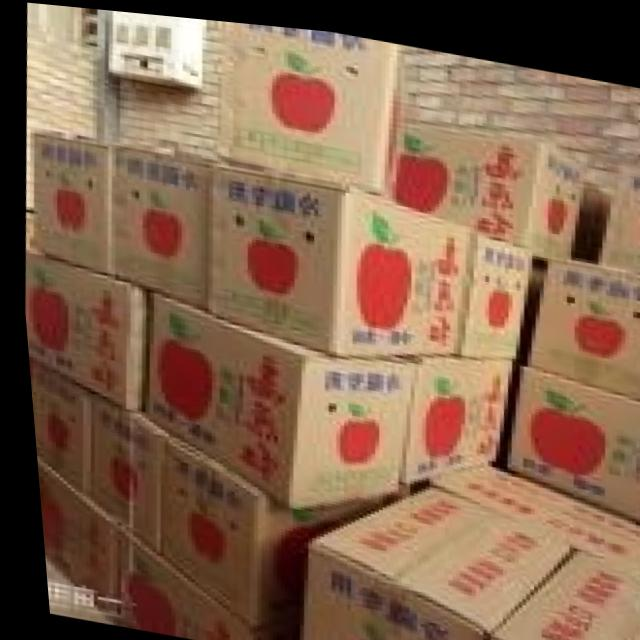box: (138, 290, 409, 501), (199, 158, 466, 351), (146, 437, 390, 621), (290, 479, 564, 640), (215, 17, 400, 190), (393, 115, 589, 251), (417, 454, 640, 563), (500, 352, 640, 510), (20, 246, 145, 411), (106, 527, 285, 640), (475, 540, 640, 640), (522, 251, 640, 389), (110, 143, 210, 303), (398, 345, 510, 475), (30, 461, 112, 617), (78, 396, 161, 543), (28, 132, 109, 274), (455, 224, 528, 349), (25, 360, 84, 489), (594, 149, 640, 262)
